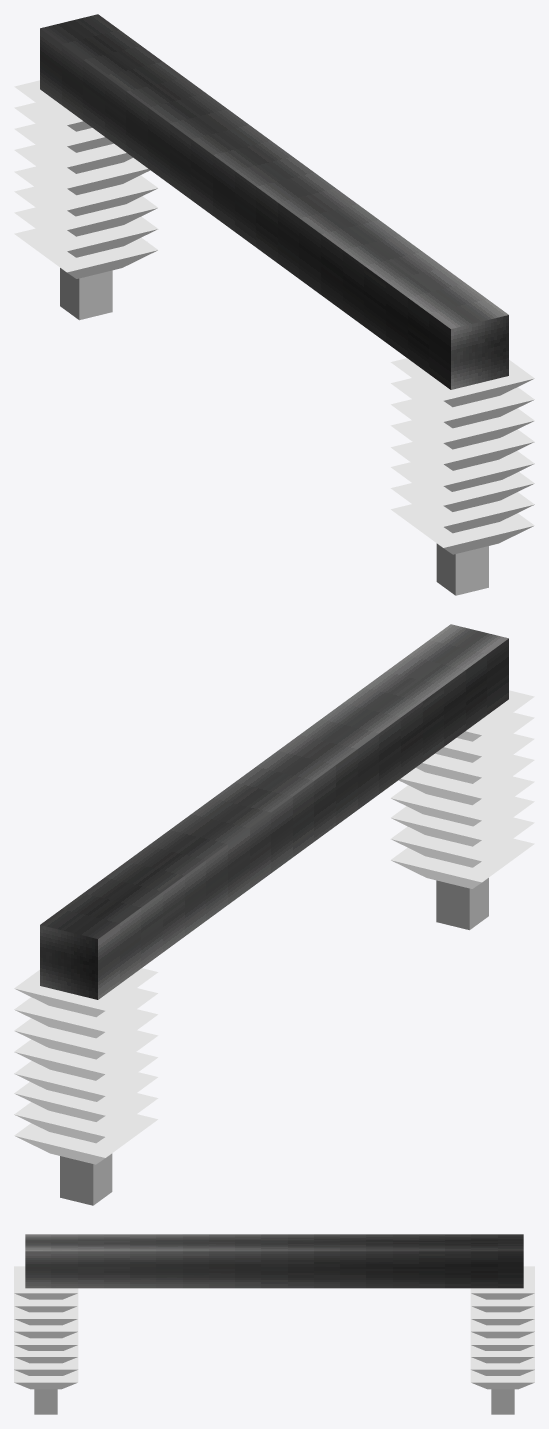
Rendered from UtilityPoleCeiling2.obj.
3 views of the same model, one above another, from view 1: azimuth 30°, elevation 25°; view 2: azimuth 150°, elevation 25°; view 3: azimuth 270°, elevation 25° (orthographic). The views are drawn at different scales.
Parts seen in each view (by area): view 1: Cube, main.001, main.000, g0.001, g0; view 2: Cube, main.000, main.001, g0, g0.001; view 3: Cube, main.000, main.001, g0, g0.001.
Boxes of the visible parts, <box> form: Cube: <box>40,14,508,389</box>; main.001: <box>390,358,534,554</box>; main.000: <box>14,80,158,278</box>; g0.001: <box>436,543,488,595</box>; g0: <box>60,268,112,320</box>; Cube: <box>40,624,508,999</box>; main.000: <box>14,968,158,1164</box>; main.001: <box>390,690,534,888</box>; g0: <box>60,1153,112,1205</box>; g0.001: <box>436,878,488,930</box>; Cube: <box>25,1234,523,1288</box>; main.000: <box>470,1266,534,1389</box>; main.001: <box>14,1266,78,1389</box>; g0: <box>491,1389,514,1414</box>; g0.001: <box>34,1389,57,1414</box>.
Bounding box in the file's own units: 0.1968 × 0.5649 × 1.6.
Materials: 4 (3 with a texture image).
